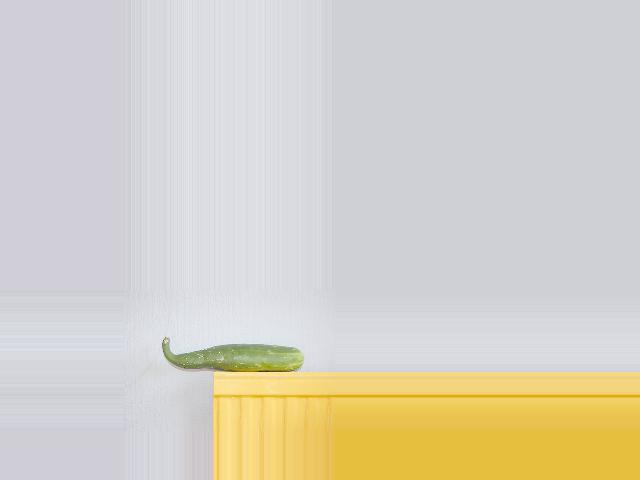cucumber: (161, 336, 303, 372)
